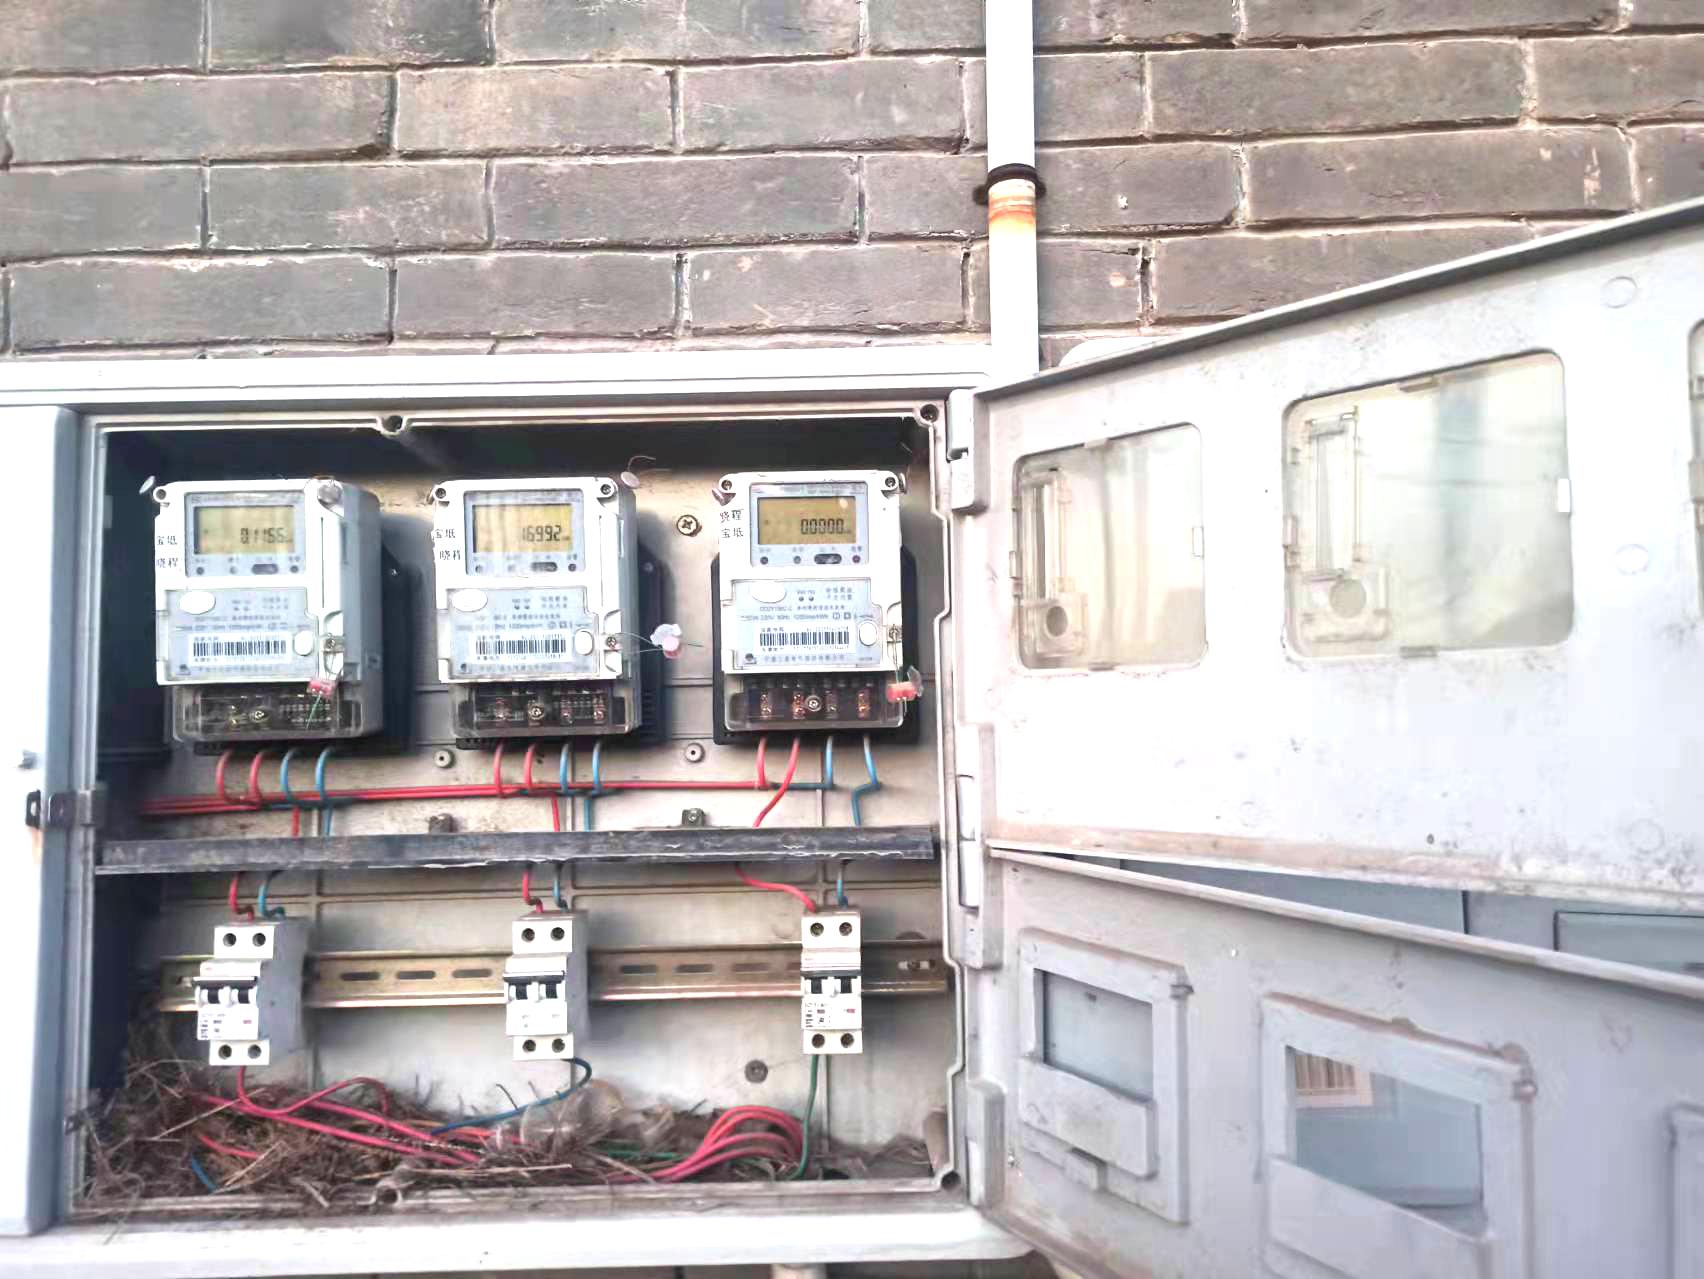digital: (154, 480, 346, 687), (714, 472, 901, 670), (432, 476, 622, 670)
